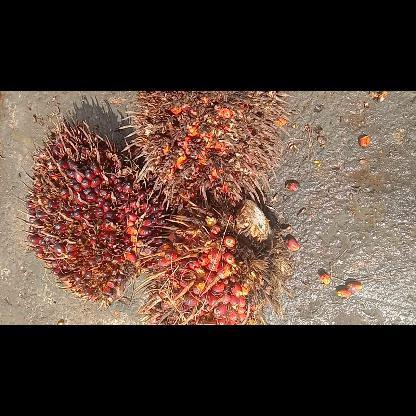TBS masak: (17, 114, 169, 308), (134, 198, 293, 324)
Terlalu masak: (119, 90, 292, 209)
